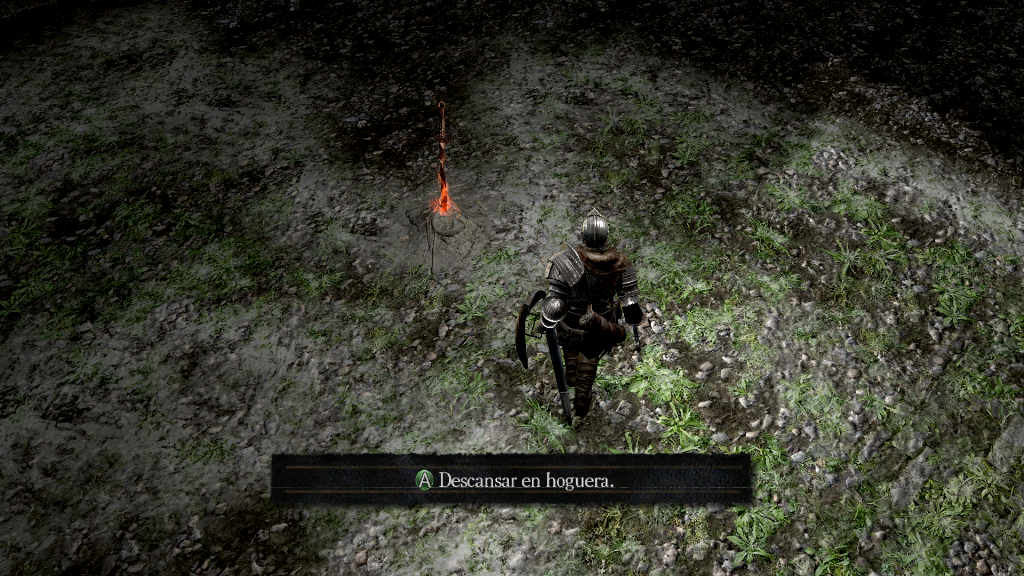bonfire: (412, 99, 472, 234)
dialogBox: (269, 452, 751, 500)
player: (515, 207, 649, 429)
